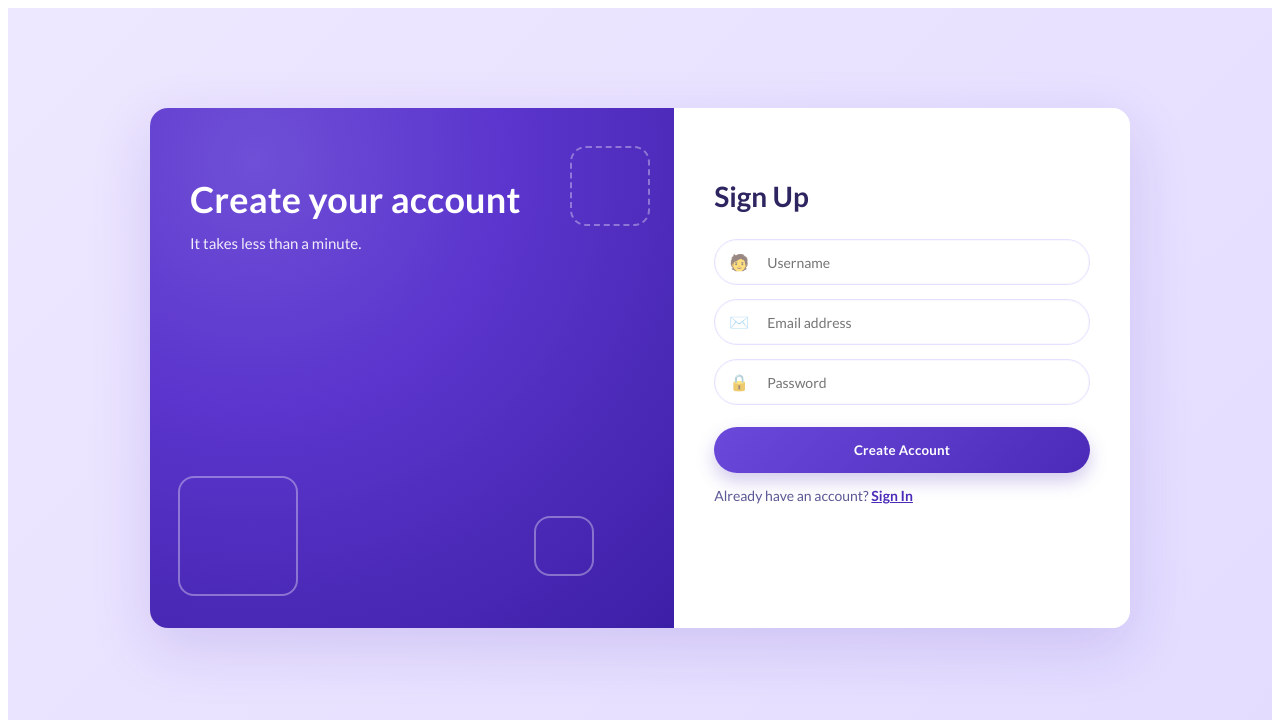
<Register /> › shows API error when register fails
This screenshot has width=1280, height=720.
Type "Alice" into the field with placeholder "Username" at (920, 262), box [765,253,1075,272]
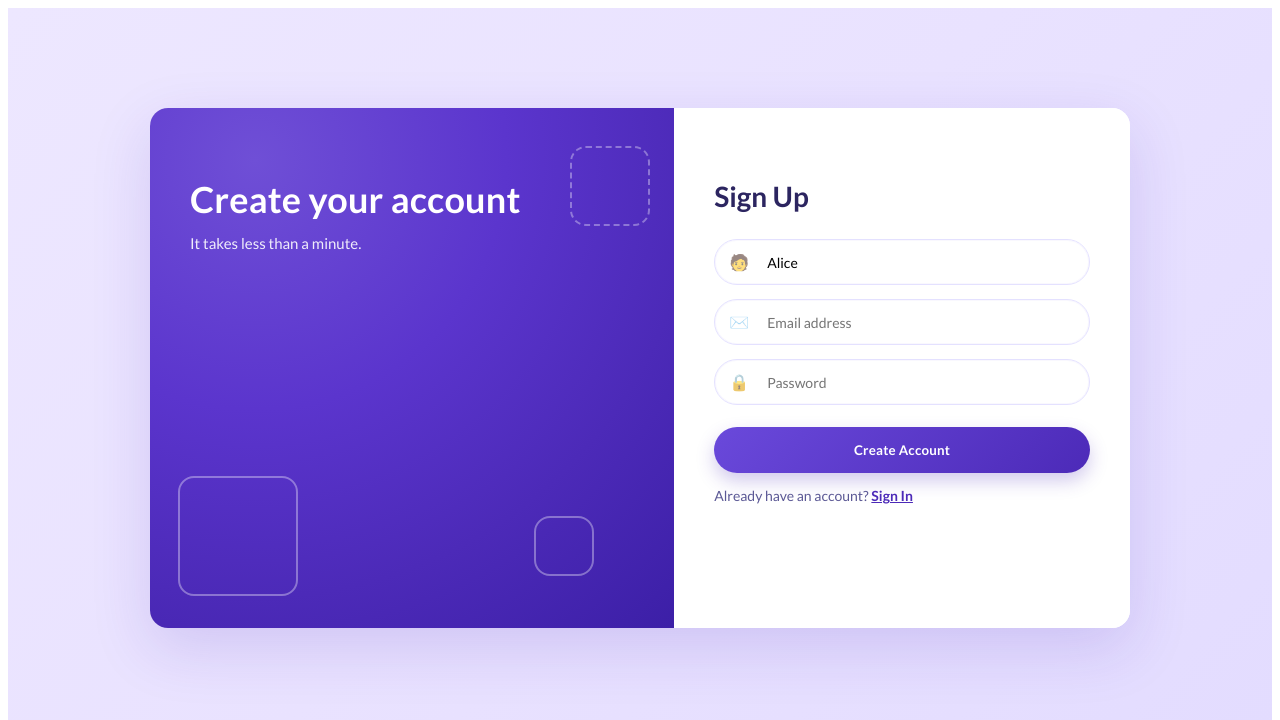
Type "a@b.com" into the field with placeholder "Email address" at (920, 322), box [765,313,1075,332]
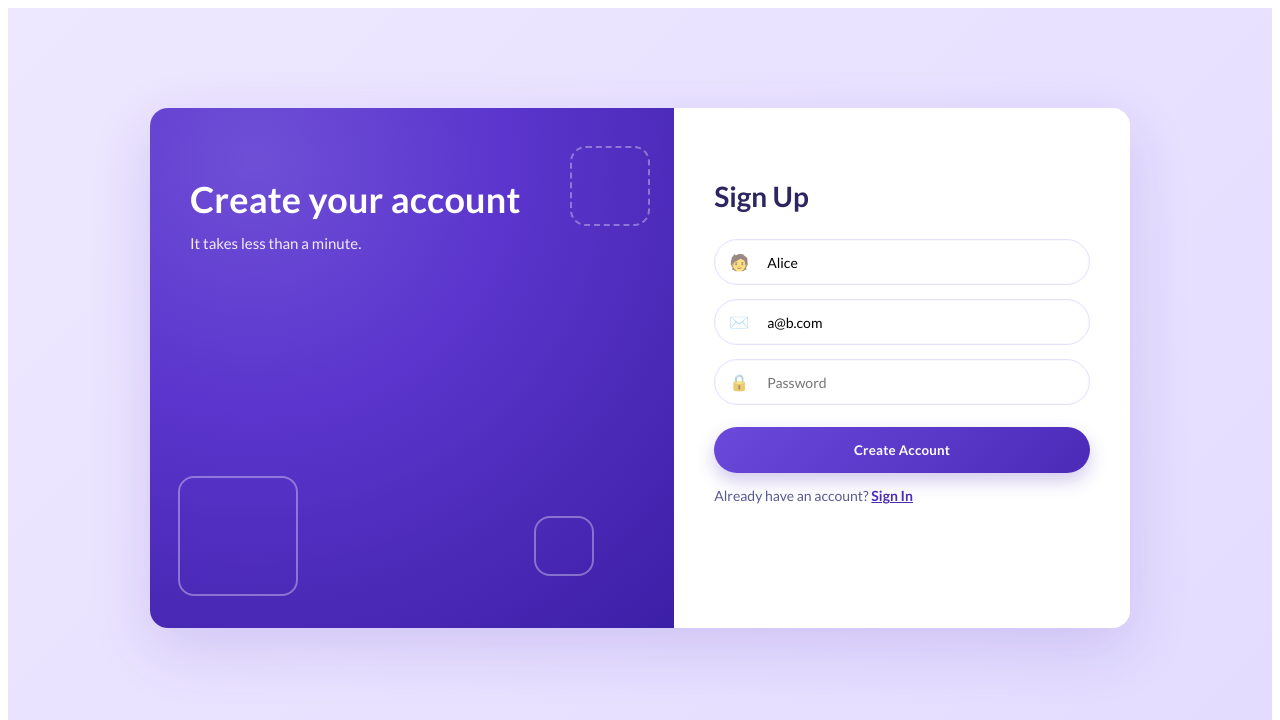
Type "secret1" into the password field with placeholder "Password" at (920, 382), box [765,373,1075,392]
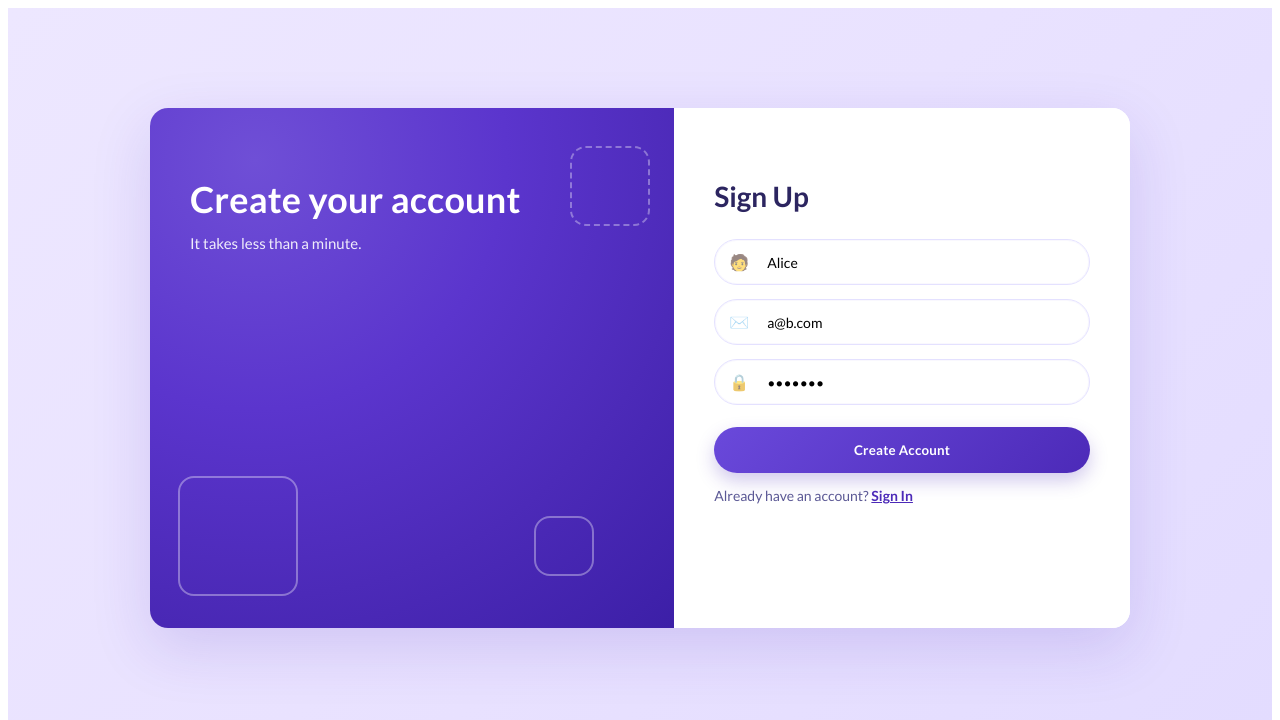
Click the button "Create Account" at (902, 450), box [714,427,1090,473]
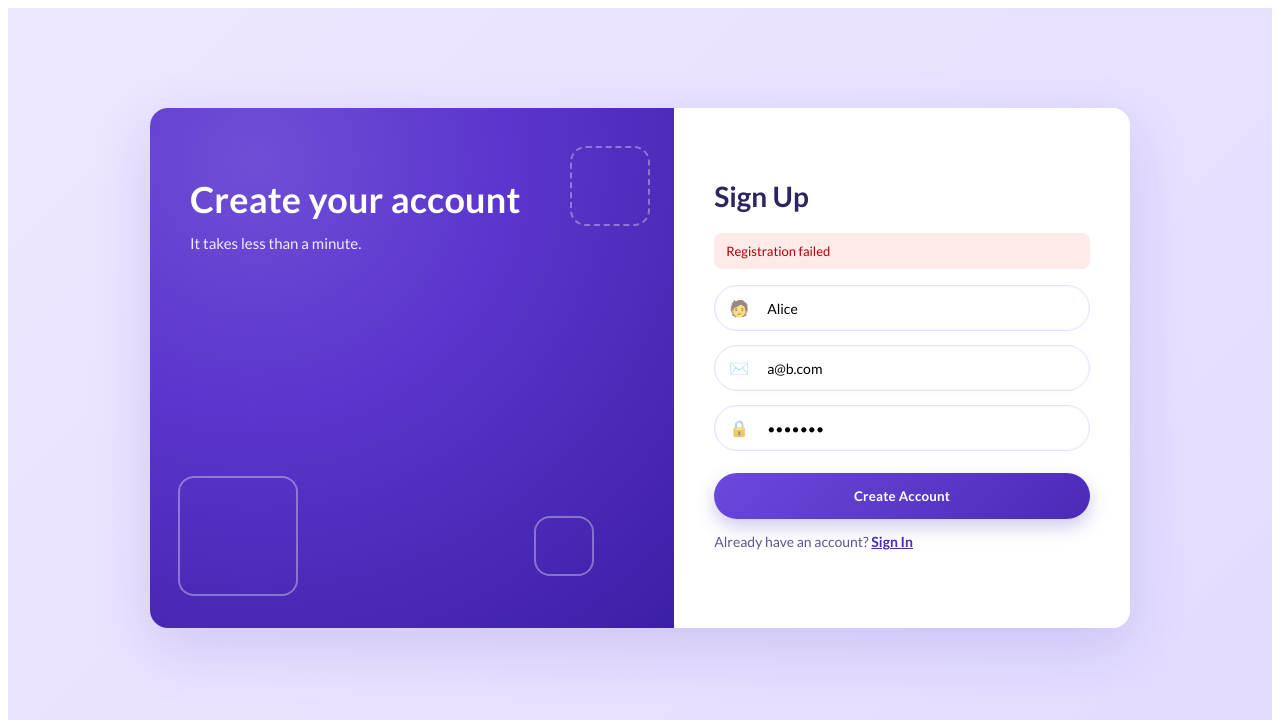
Now the text "Registration failed" is shown, box [714,233,1090,269]
